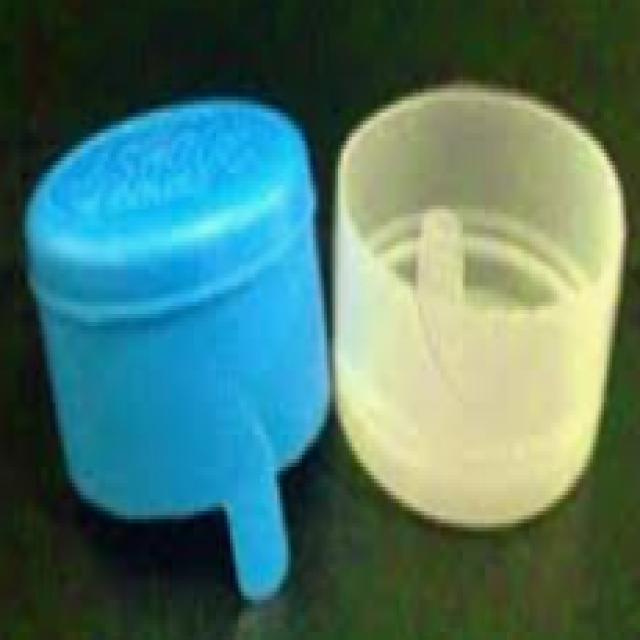TutupGalon: (20, 92, 332, 604), (330, 76, 626, 532)
